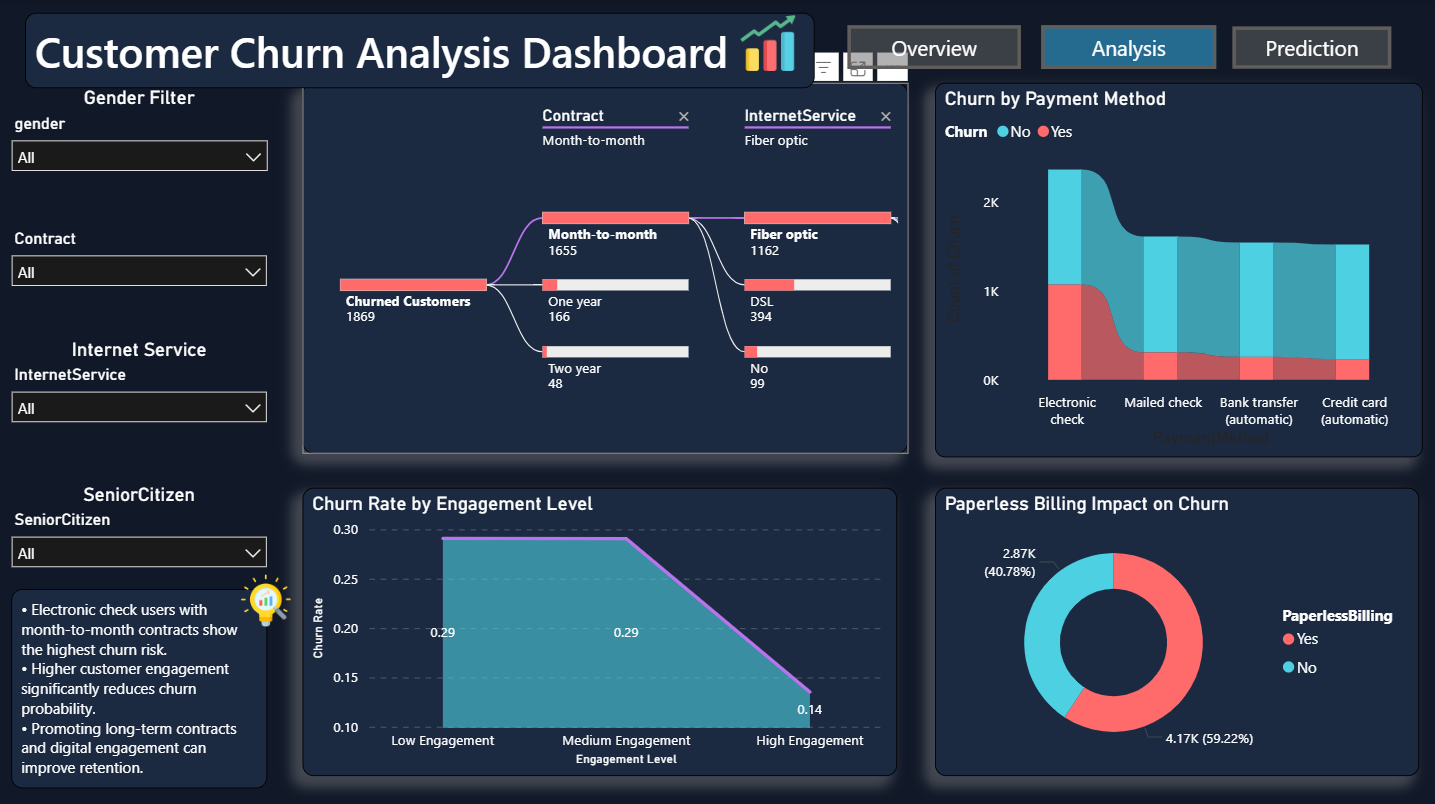

This screenshot's page, from the dashboard's own definition file:
{"tool":"powerbi","page":{"name":"Analysis","canvas":[1280,720],"ordinal":2},"visuals":[{"type":"slicer","title":"Contract Filter","fields":{"Values":["Churn.Contract"]},"box":[0,180.4,247.9,121.5],"z":0},{"type":"slicer","title":"Gender Filter","fields":{"Values":["Churn.gender"]},"box":[0,77.9,248.2,124.1],"z":1000},{"type":"slicer","title":"Internet Service","fields":{"Values":["Churn.InternetService"]},"box":[0,301.8,247.9,128.8],"z":2000},{"type":"decompositionTreeVisual","fields":{"Analyze":["Churn.Churned Customers"],"ExplainBy":["Churn.PaymentMethod","Churn.Contract","Churn.InternetService","Churn.TechSupport"]},"box":[269.8,75,539.6,330.4],"z":3000},{"type":"actionButton","box":[754.6,23.1,154.4,39],"z":4000},{"type":"actionButton","box":[1097.9,24.5,141.4,37.5],"z":5000},{"type":"actionButton","box":[927.7,23.1,155.8,39],"z":6000},{"type":"ribbonChart","title":"Churn by Payment Method","fields":{"Category":["Churn.PaymentMethod"],"Series":["Churn.Churn"],"Y":["CountNonNull(Churn.Churn)"]},"box":[832.5,75,434.3,333.3],"z":7000},{"type":"donutChart","title":"Paperless Billing Impact on Churn","fields":{"Category":["Churn.PaperlessBilling"],"Y":["CountNonNull(Churn.Churn)"]},"box":[832.5,435.7,431.4,256.8],"z":8000},{"type":"slicer","title":"SeniorCitizen","fields":{"Values":["Churn.SeniorCitizen"]},"box":[0,430.7,247.9,127.6],"z":9000},{"type":"stackedAreaChart","fields":{"Category":["Churn.Engagement Level"],"Y":["Churn.Churn Rate"]},"box":[269.8,435.7,529.5,256.8],"z":10000},{"type":"textbox","box":[21.9,11.7,703.5,67.3],"z":10001},{"type":"image","box":[628.9,14.6,109.7,49.7],"z":10002},{"type":"textbox","box":[9.8,525.2,228.2,177.9],"z":10003},{"type":"image","box":[206.2,512,61.2,46.9],"z":10004}]}

Visuals, with their boxes in screenshot pixels (x1, y1, x2, y2), scaled from the page's 1280x720 canvas onto the 1435x804 screenshot:
"Contract Filter" slicer: x1=0 y1=201 x2=278 y2=337
"Gender Filter" slicer: x1=0 y1=87 x2=278 y2=226
"Internet Service" slicer: x1=0 y1=337 x2=278 y2=481
decompositionTreeVisual - Churn.Churned Customers x Churn.PaymentMethod: x1=302 y1=84 x2=907 y2=453
actionButton: x1=846 y1=26 x2=1019 y2=69
actionButton: x1=1231 y1=27 x2=1389 y2=69
actionButton: x1=1040 y1=26 x2=1215 y2=69
"Churn by Payment Method" ribbonChart: x1=933 y1=84 x2=1420 y2=456
"Paperless Billing Impact on Churn" donutChart: x1=933 y1=487 x2=1417 y2=773
"SeniorCitizen" slicer: x1=0 y1=481 x2=278 y2=623
stackedAreaChart - Churn.Engagement Level x Churn.Churn Rate: x1=302 y1=487 x2=896 y2=773
textbox: x1=25 y1=13 x2=813 y2=88
image: x1=705 y1=16 x2=828 y2=72
textbox: x1=11 y1=586 x2=267 y2=785
image: x1=231 y1=572 x2=300 y2=624
